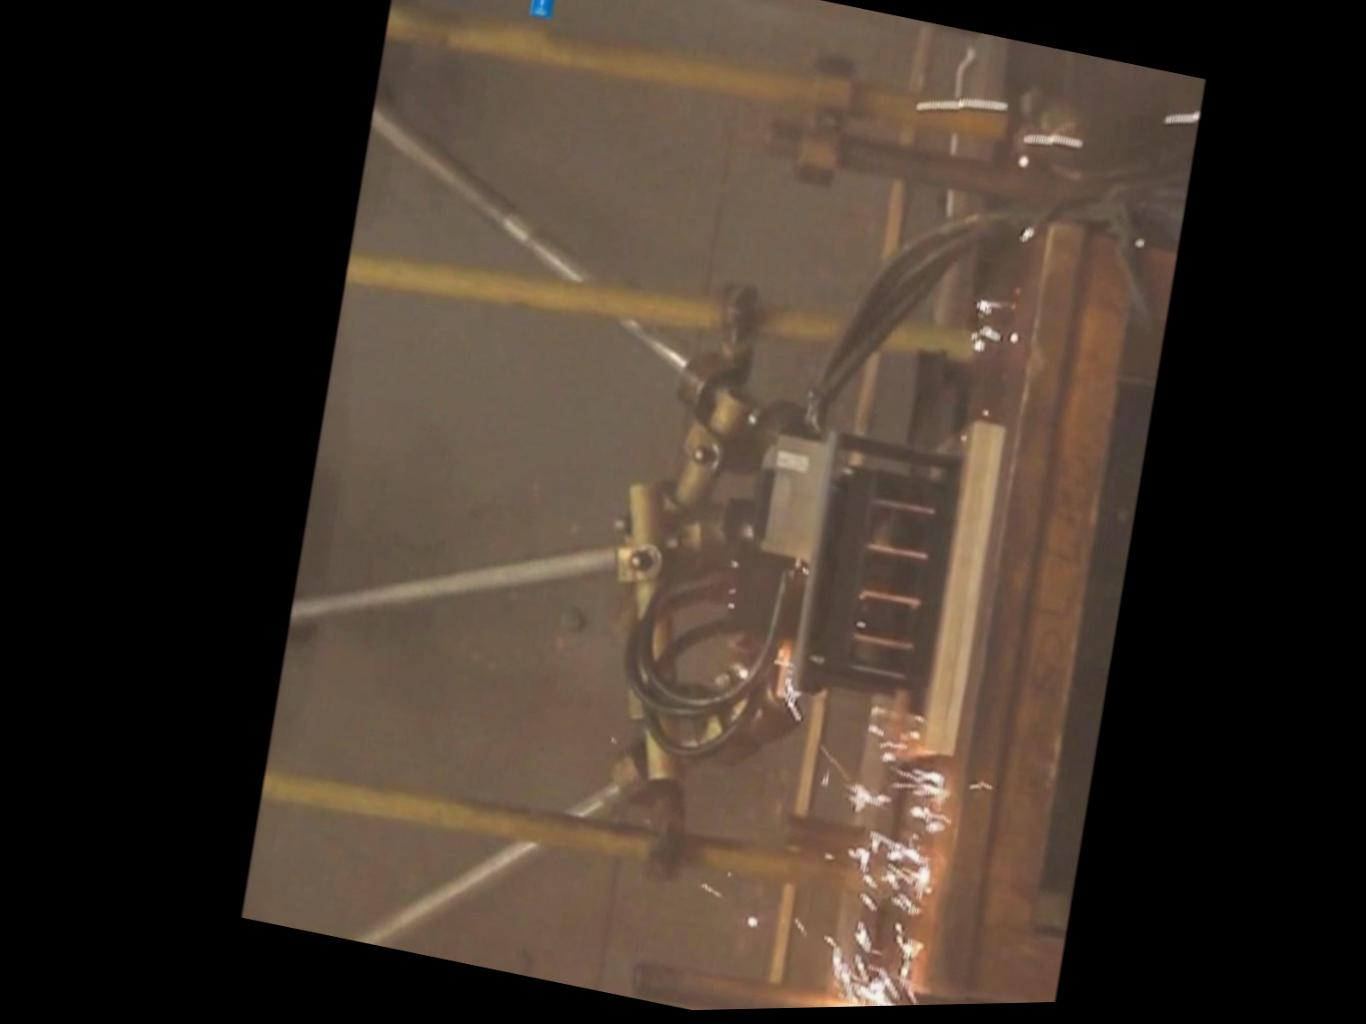fire: (648, 56, 1092, 1002)
